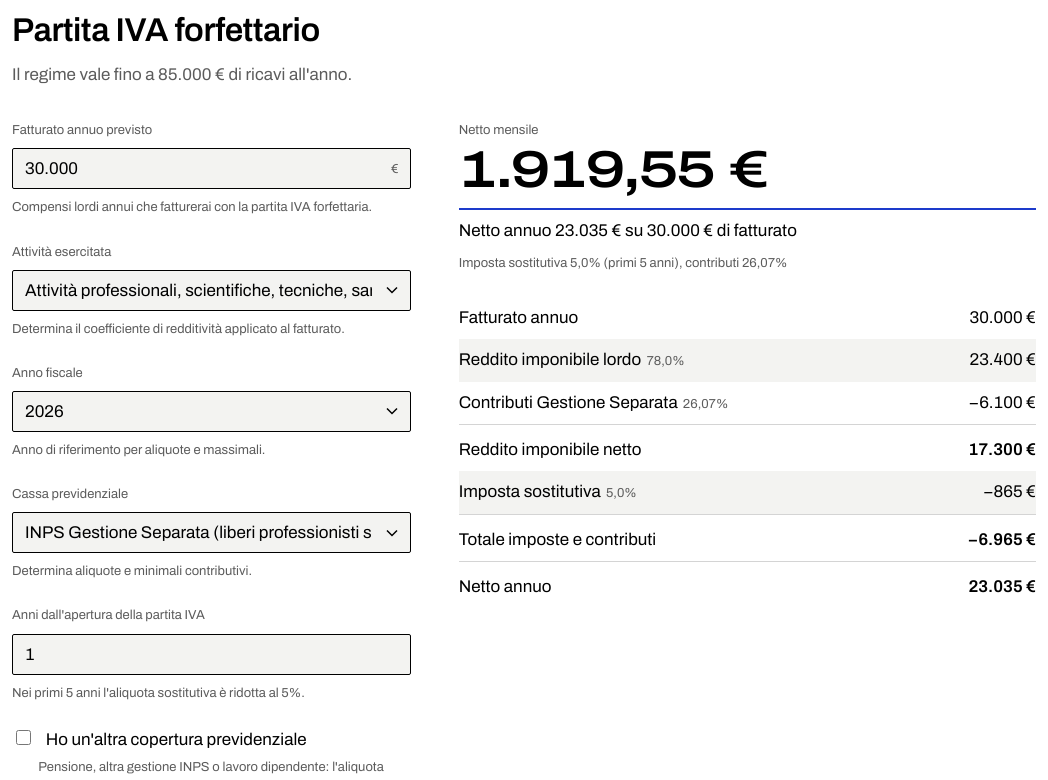
Test: ForfettarioPage › groups thousands in the revenue field as the user types
Replace the text in the field labelled "Fatturato annuo previsto" with "85000" at (211, 169), box [12,148,411,189]
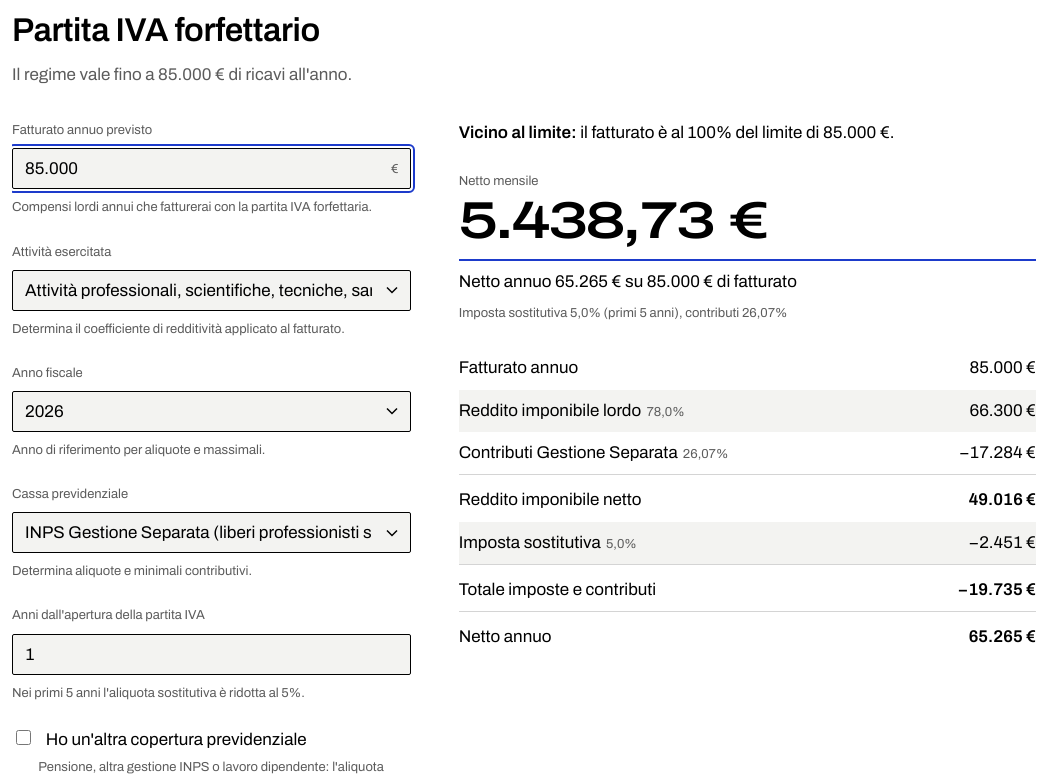
Now the field labelled "Fatturato annuo previsto" holds "85.000", box [12,148,411,189]
